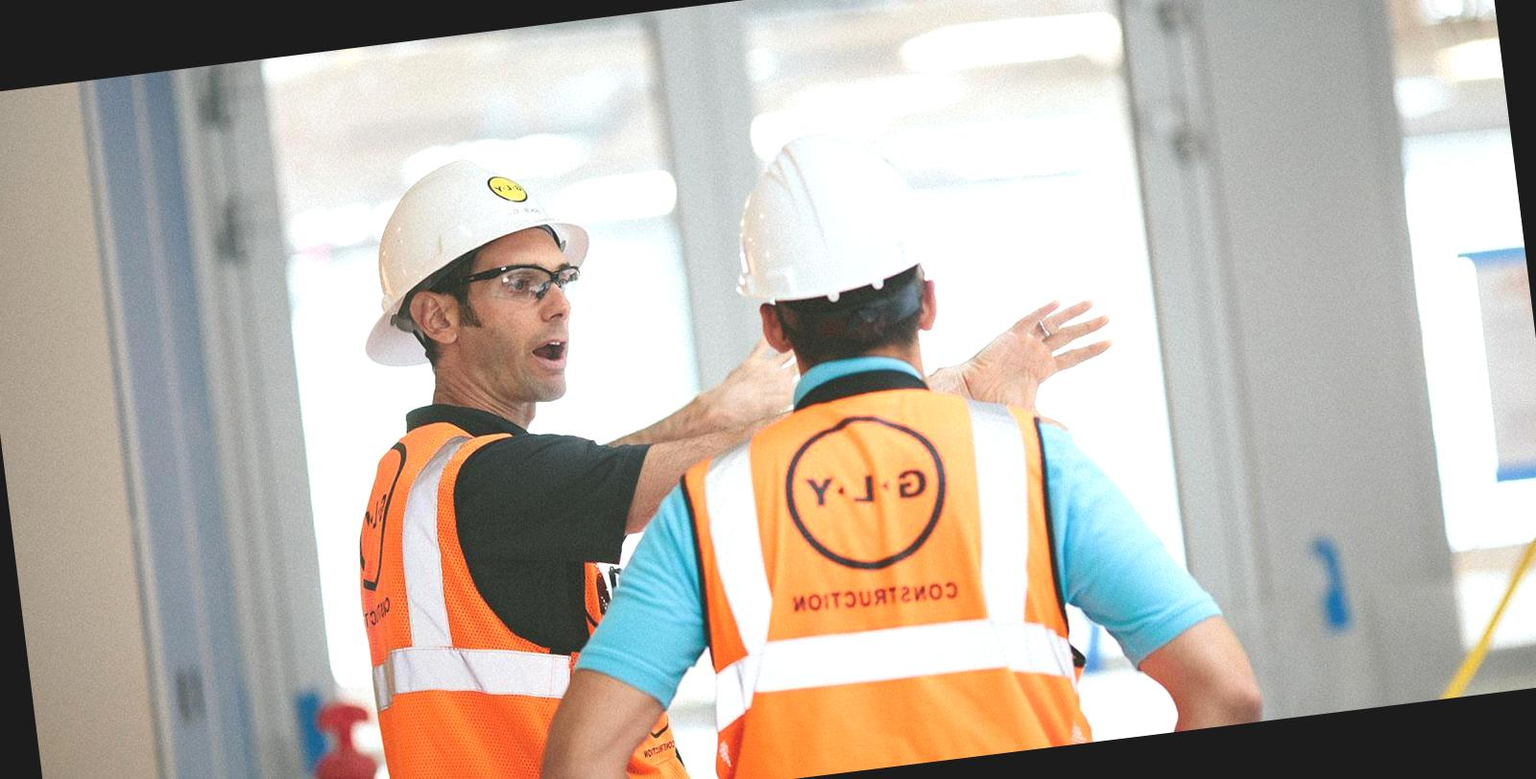helmet: (328, 130, 602, 377), (705, 116, 965, 323)
person: (533, 96, 1145, 779), (287, 120, 776, 779)
